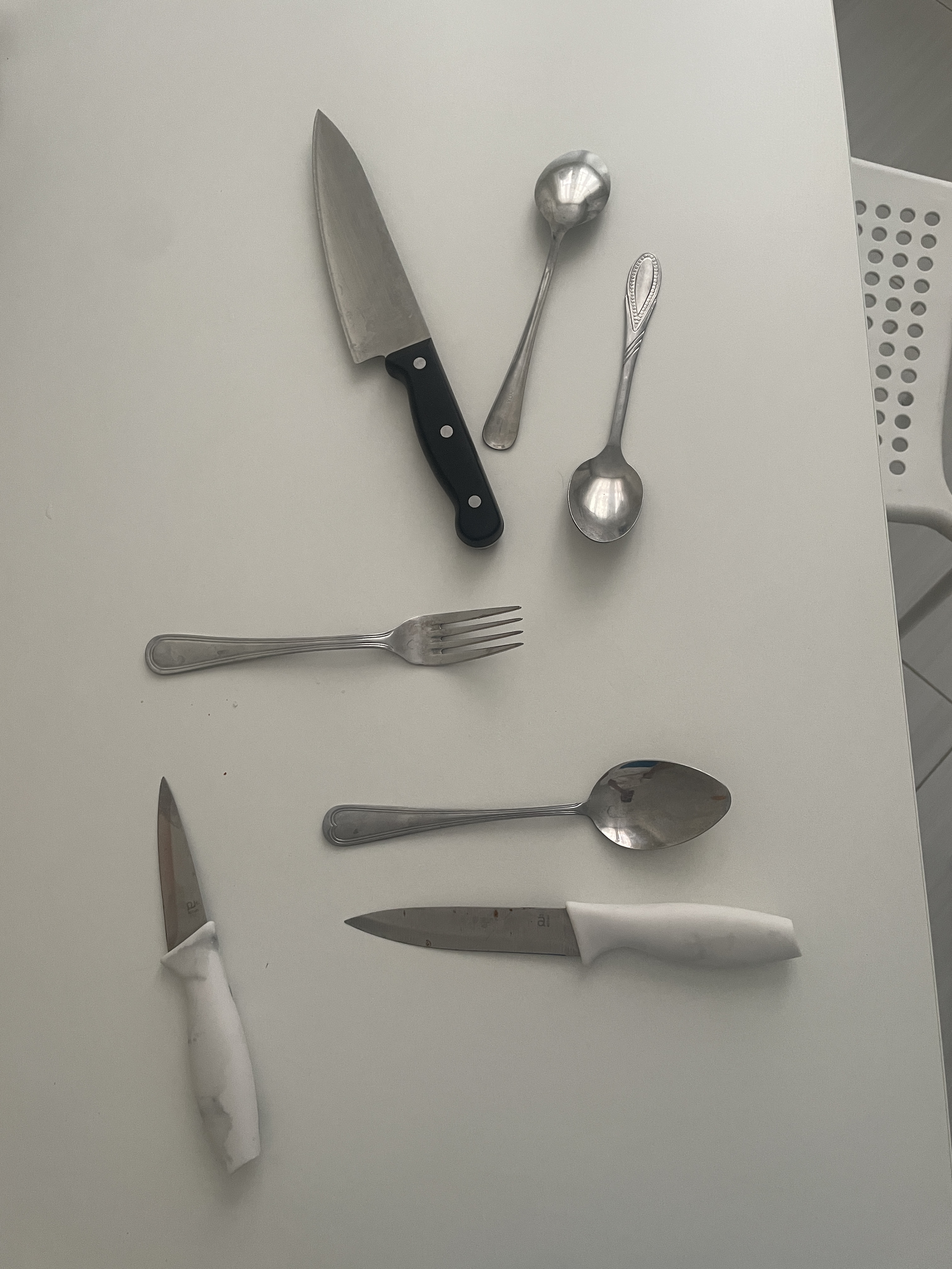knife: (313, 110, 504, 547), (157, 779, 260, 1173), (347, 901, 801, 967)
spoon: (482, 150, 611, 450), (322, 760, 731, 850), (569, 253, 662, 542)
